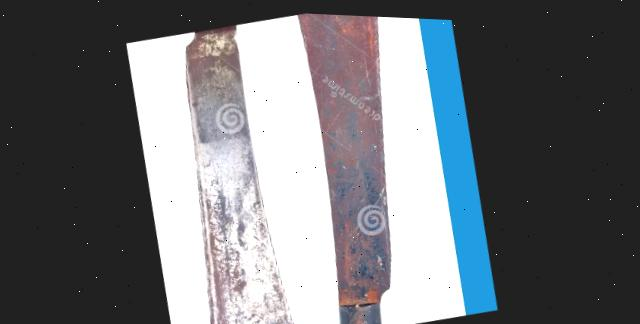long knife: (127, 14, 327, 324), (263, 10, 455, 324)
